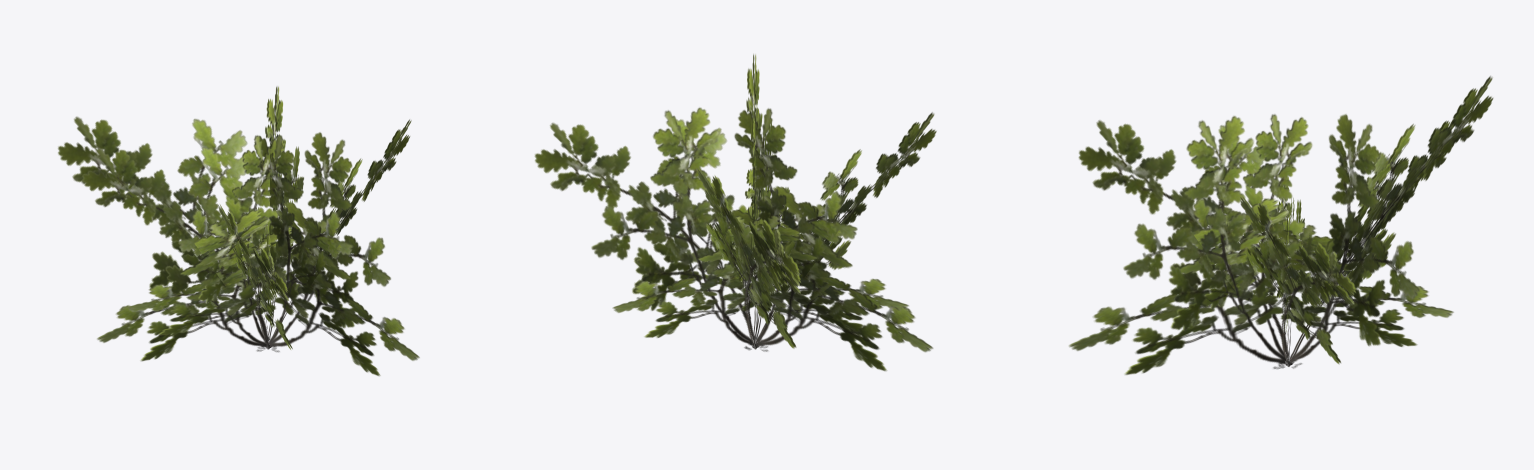
Rendered from forest_leafy_shrub.gltf.
The picture shows the model from 3 angles, left to right: view 1: azimuth 30°, elevation 25°; view 2: azimuth 150°, elevation 25°; view 3: azimuth 270°, elevation 25°; orthographic projection. The views are drawn at different scales.
Visible parts, largest first — view 1: forest_leafy_shrub; view 2: forest_leafy_shrub; view 3: forest_leafy_shrub.
Boxes of the visible parts, x1,y1,x2,y2 form: forest_leafy_shrub: (58,86,419,376); forest_leafy_shrub: (534,54,936,371); forest_leafy_shrub: (1069,76,1493,374).
Size of the model in its own units: 1.03 by 0.8153 by 0.9527.
